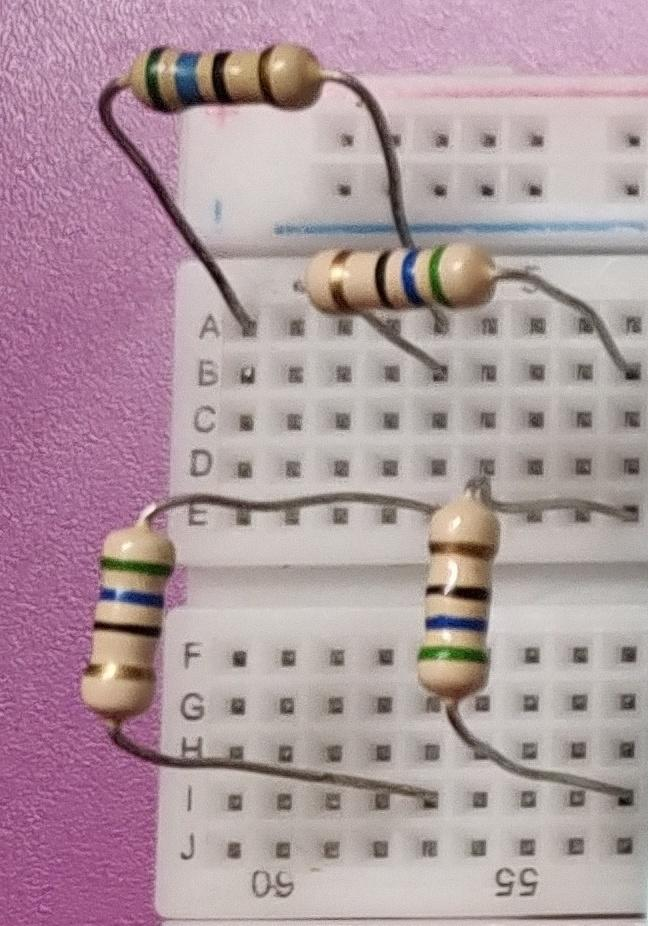resistor: (49, 511, 196, 748), (407, 483, 519, 713), (113, 33, 340, 135), (287, 235, 523, 319)
